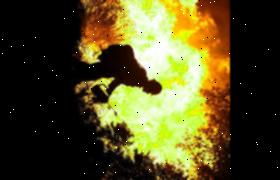fire: (73, 0, 223, 176)
